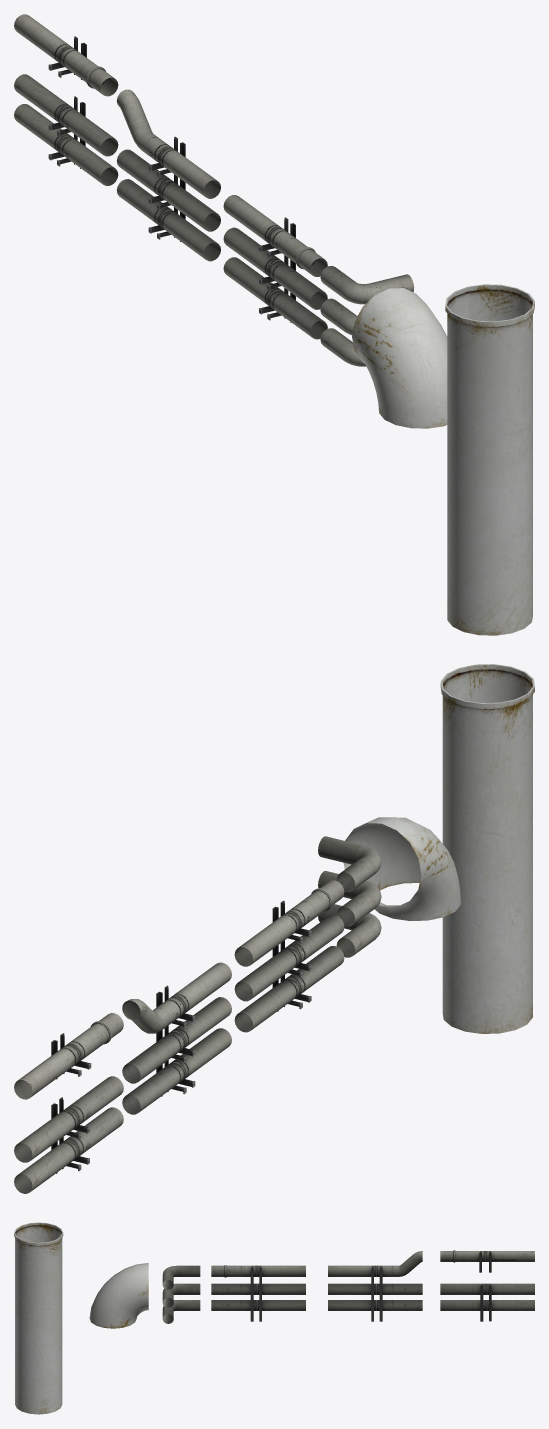
File: PipeCollection.fbx
The picture shows the model from 3 angles, top to bottom: view 1: azimuth 30°, elevation 25°; view 2: azimuth 150°, elevation 25°; view 3: azimuth 270°, elevation 25°; orthographic projection. The views are drawn at different scales.
Visible parts, largest first — view 1: default_pipe_64_256_model.dmx, default_pipe_64_corner_model.dmx, default_triple_wallpipe_straight_f_model.dmx, default_triple_wallpipe_straight_c_model.dmx.015, default_triple_wallpipe_straight_a_model.dmx.019, default_triple_wallpipe_corner_c_model.dmx; view 2: default_pipe_64_256_model.dmx, default_triple_wallpipe_straight_c_model.dmx.015, default_triple_wallpipe_straight_a_model.dmx.019, default_triple_wallpipe_straight_f_model.dmx, default_pipe_64_corner_model.dmx, default_triple_wallpipe_corner_c_model.dmx; view 3: default_pipe_64_256_model.dmx, default_triple_wallpipe_straight_f_model.dmx, default_triple_wallpipe_straight_a_model.dmx.019, default_triple_wallpipe_straight_c_model.dmx.015, default_pipe_64_corner_model.dmx, default_triple_wallpipe_corner_c_model.dmx.
Boxes of the visible parts, x1,y1,x2,y2 form: default_pipe_64_256_model.dmx: (445, 284, 534, 635); default_pipe_64_corner_model.dmx: (352, 288, 447, 428); default_triple_wallpipe_straight_f_model.dmx: (116, 89, 220, 261); default_triple_wallpipe_straight_c_model.dmx.015: (14, 14, 118, 185); default_triple_wallpipe_straight_a_model.dmx.019: (223, 195, 327, 339); default_triple_wallpipe_corner_c_model.dmx: (320, 266, 414, 366); default_pipe_64_256_model.dmx: (440, 664, 534, 1033); default_triple_wallpipe_straight_c_model.dmx.015: (14, 1013, 123, 1193); default_triple_wallpipe_straight_a_model.dmx.019: (234, 880, 344, 1032); default_triple_wallpipe_straight_f_model.dmx: (122, 962, 231, 1114); default_pipe_64_corner_model.dmx: (343, 817, 461, 920); default_triple_wallpipe_corner_c_model.dmx: (318, 836, 381, 957); default_pipe_64_256_model.dmx: (14, 1222, 63, 1414); default_triple_wallpipe_straight_f_model.dmx: (328, 1251, 422, 1321); default_triple_wallpipe_straight_a_model.dmx.019: (211, 1265, 305, 1321); default_triple_wallpipe_straight_c_model.dmx.015: (440, 1250, 534, 1321); default_pipe_64_corner_model.dmx: (89, 1263, 148, 1328); default_triple_wallpipe_corner_c_model.dmx: (162, 1265, 200, 1323).
Bounding box in the file's own units: 127 × 488 × 1341.
6 materials, 6 textured.
